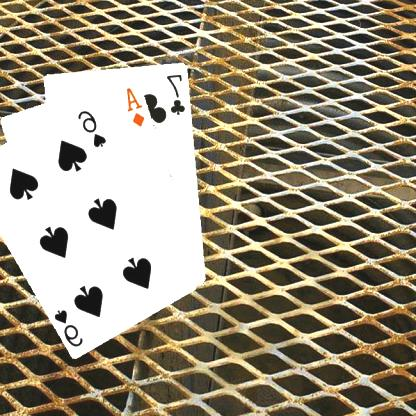6S: (53, 306, 87, 348), (76, 107, 110, 148)
7C: (166, 71, 189, 116)
AD: (126, 84, 148, 128)
